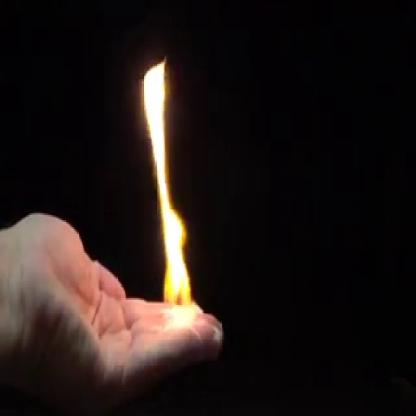fire: (138, 51, 202, 335)
